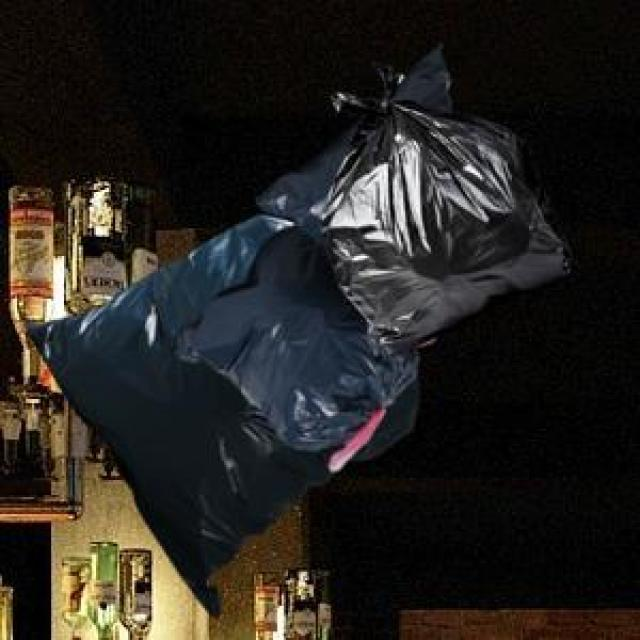Trashbag: (91, 231, 382, 570), (318, 60, 580, 346)
